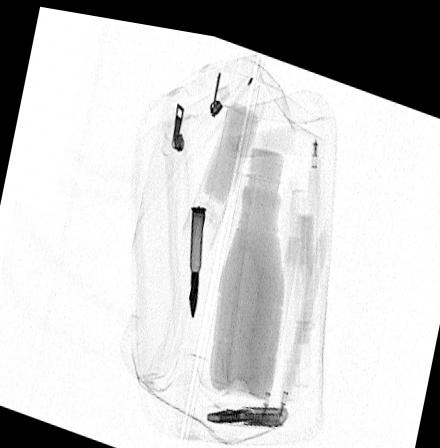Bullet: (188, 198, 206, 311)
